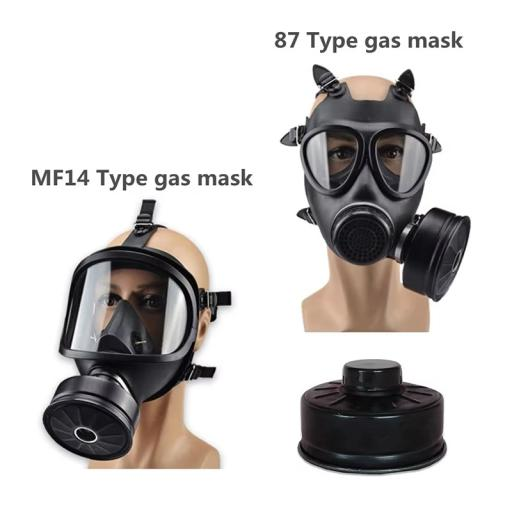mask: (282, 146, 481, 310), (16, 310, 196, 454)
